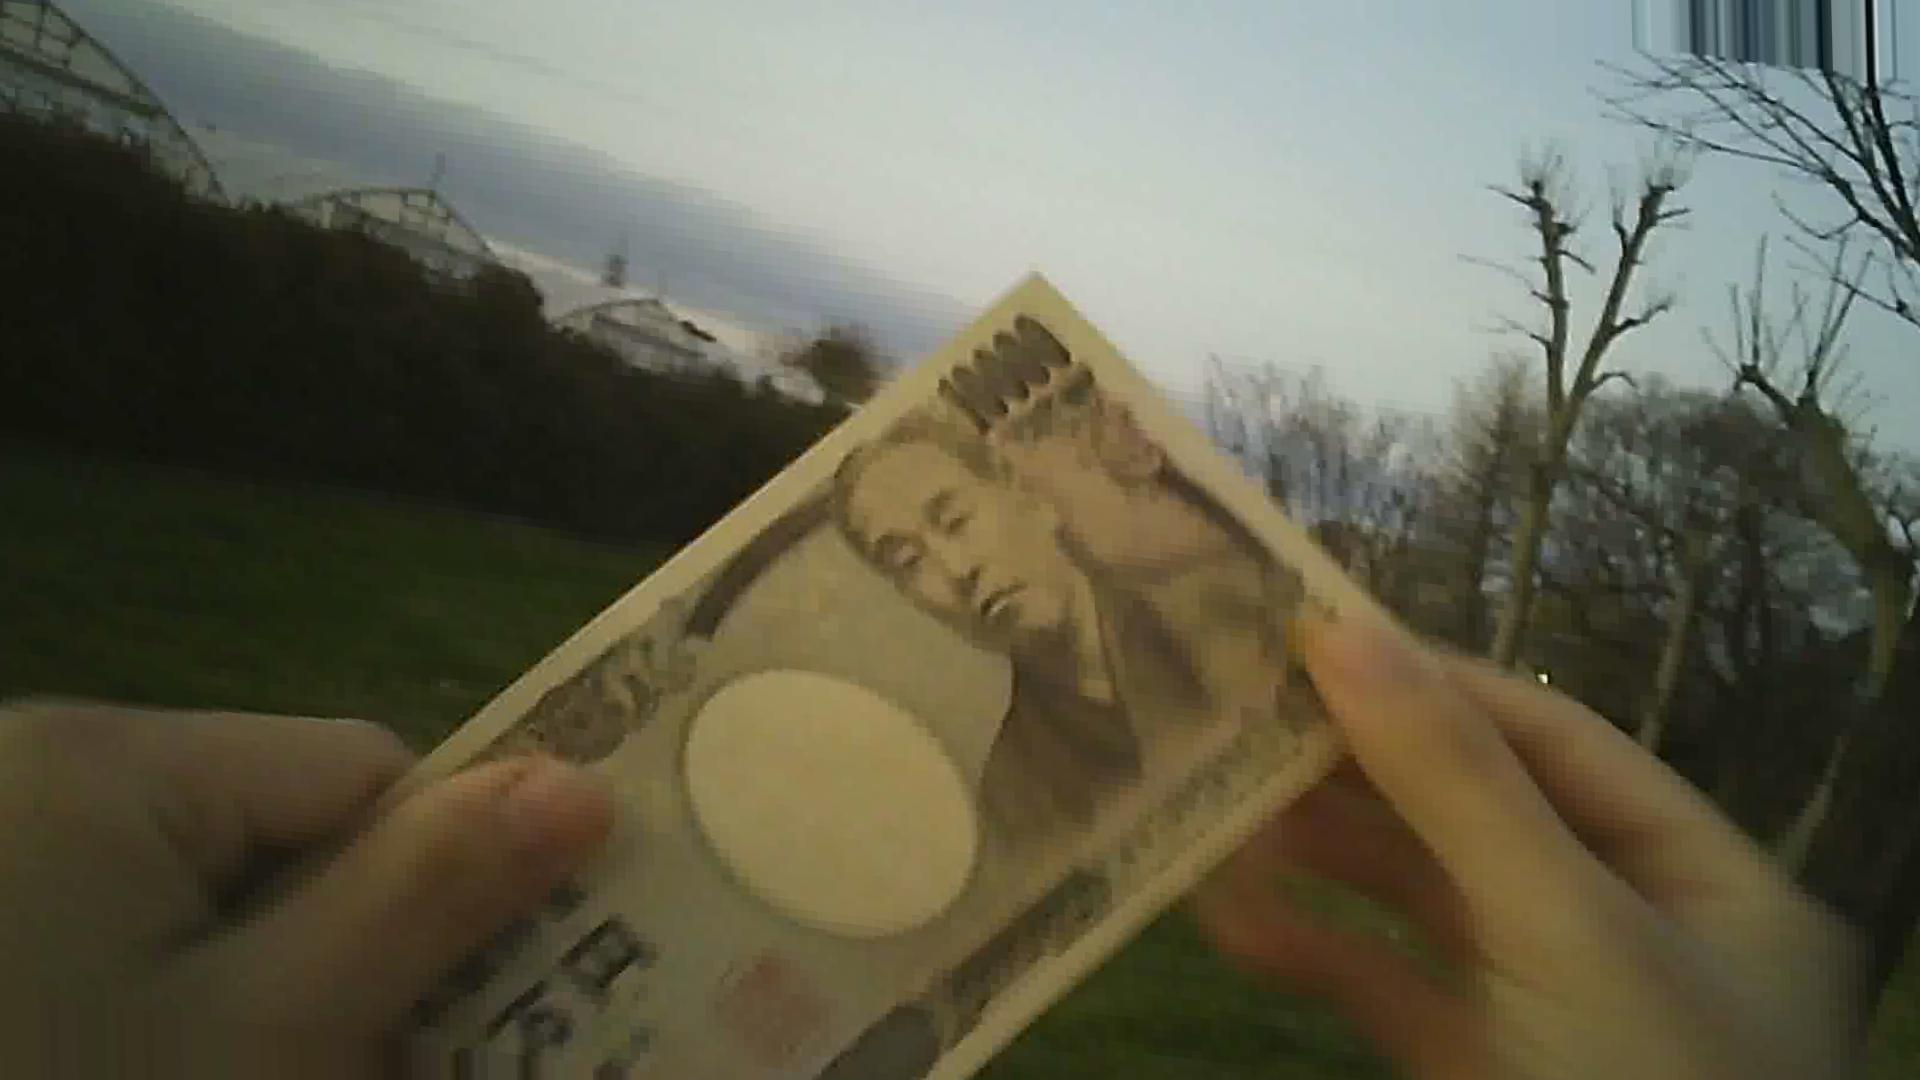10,000 Yen: (307, 282, 1406, 1067)
